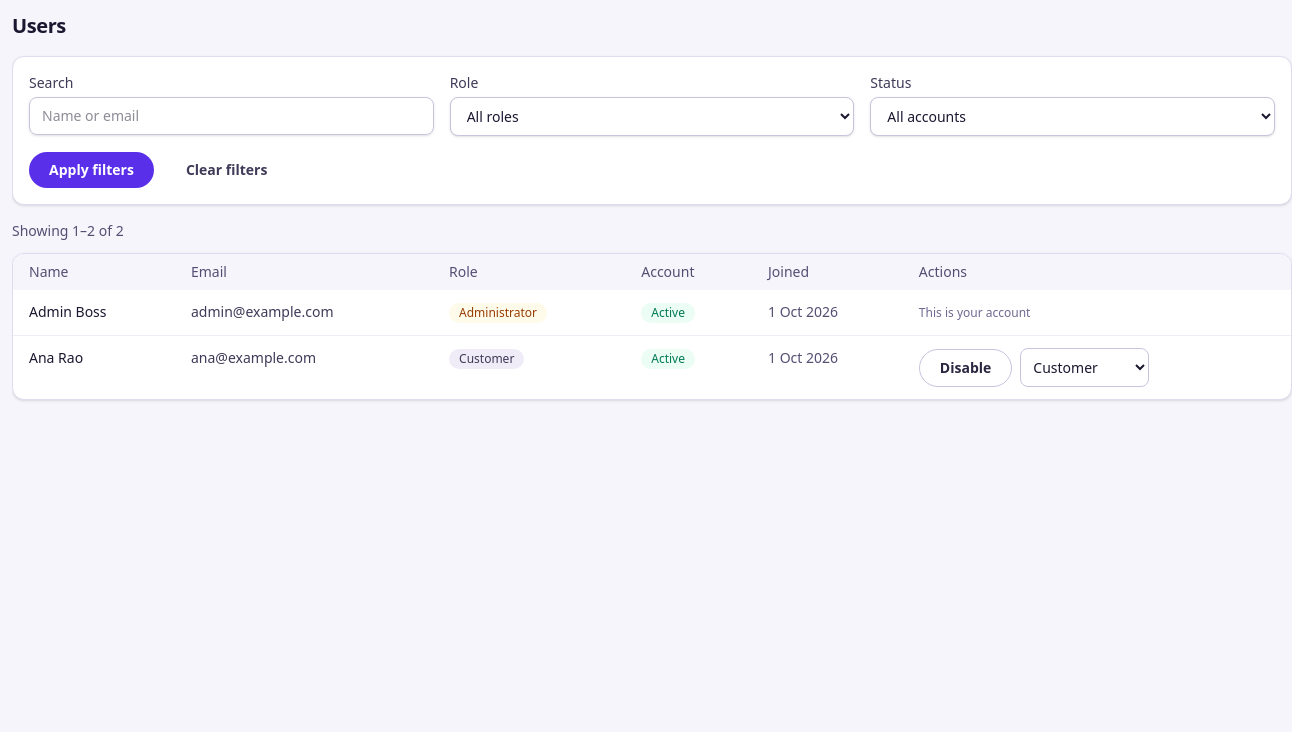
Scenario: AdminUsersPage › warns what an administrator can do before promoting someone
The image size is (1292, 732).
Step 1. Select "Administrator" in the dropdown named "Role for Ana Rao" → (1085, 368), box [1020,348,1149,387]
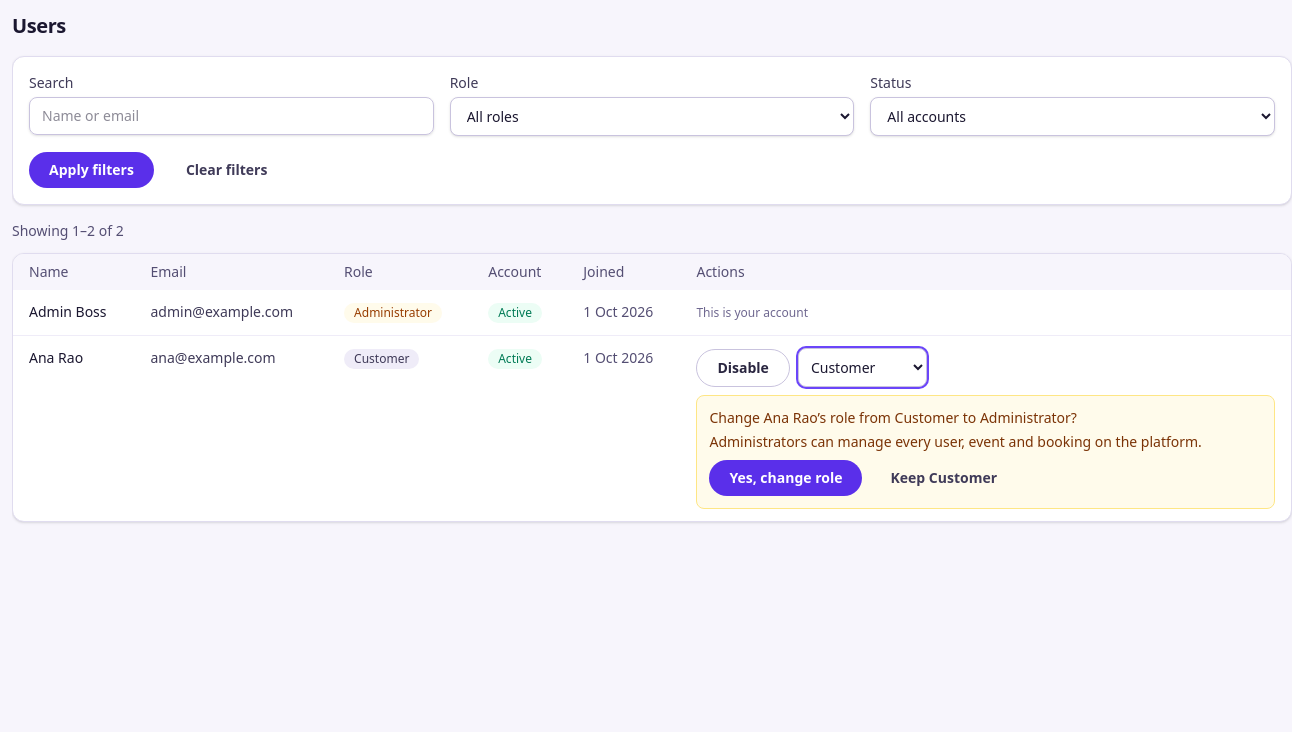
Expected: the text "manage every user, event and booking" is shown, [709,432,1202,451]
